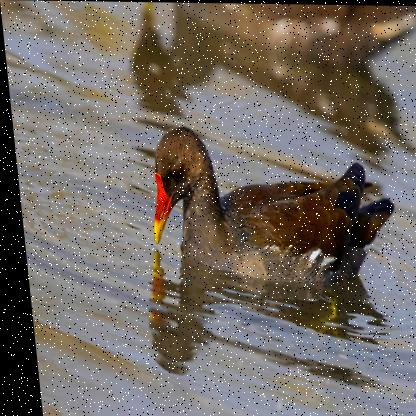Burung: (139, 124, 396, 285)
